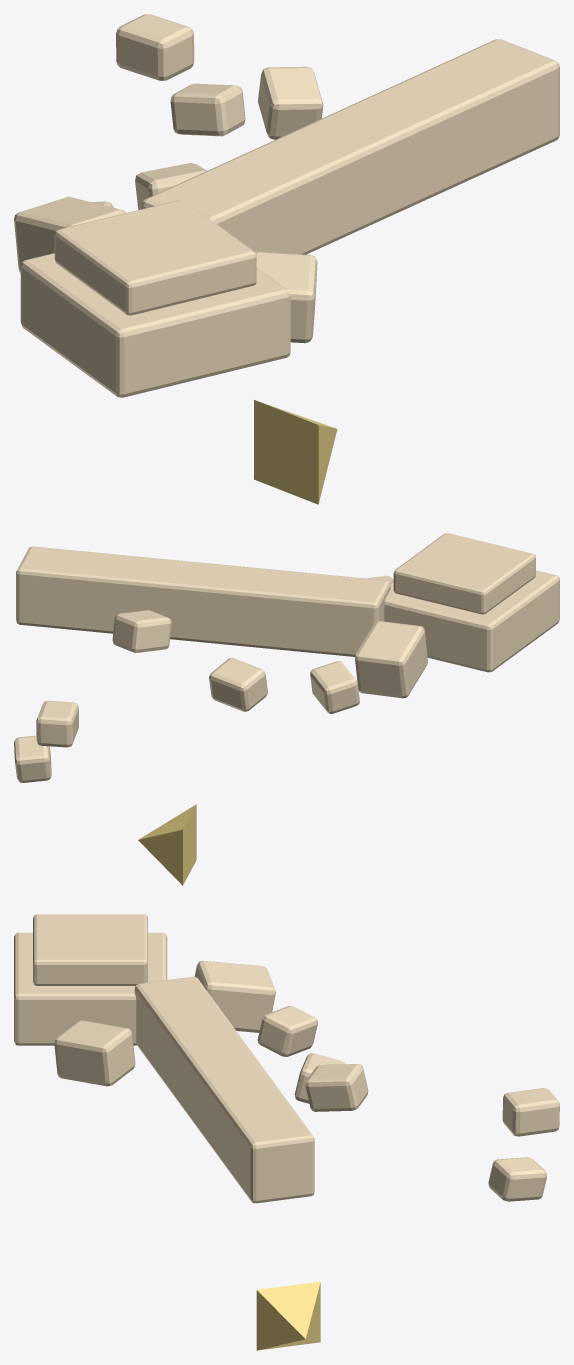
File: lm_egito_ruins.glb
3 renders of one model, top to bottom at view 1: azimuth 30°, elevation 25°; view 2: azimuth 150°, elevation 25°; view 3: azimuth 270°, elevation 25°, orthographic. The views are drawn at different scales.
Parts seen in each view (by area): view 1: lm_egito_ruins; view 2: lm_egito_ruins; view 3: lm_egito_ruins.
Part boxes in pixels (bbox=[...]): lm_egito_ruins: bbox=[14, 14, 559, 504]; lm_egito_ruins: bbox=[14, 533, 559, 885]; lm_egito_ruins: bbox=[14, 914, 559, 1350].
Size of the model in its own units: 5.49 by 3.6 by 5.7.
